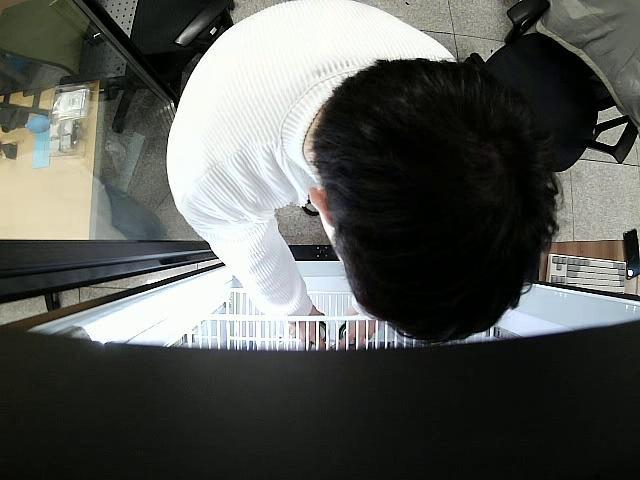12_chilsungCider: (338, 322, 356, 345), (312, 322, 327, 342)
